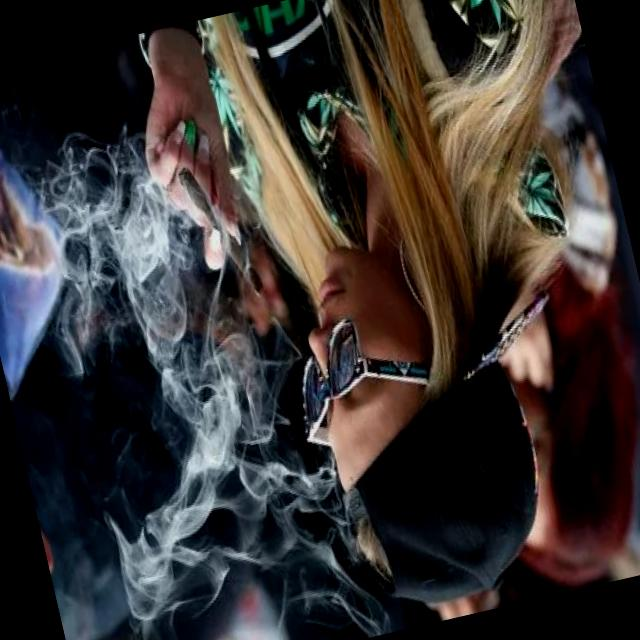cigarette: (172, 146, 269, 314)
